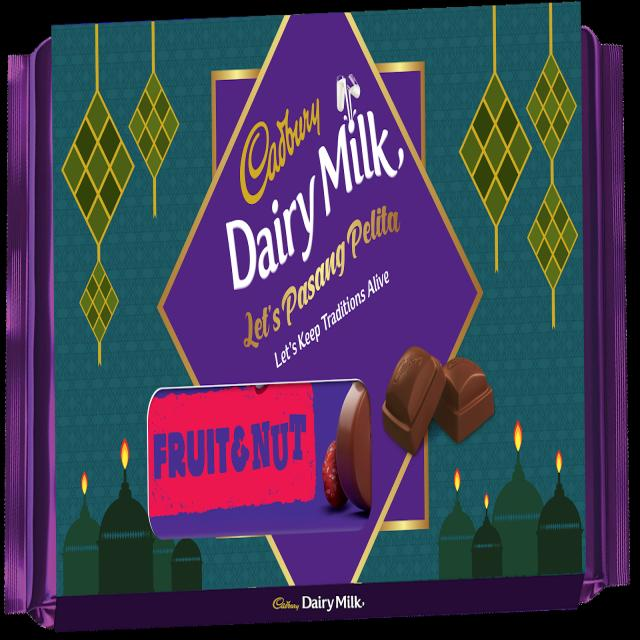cadbury: (10, 12, 633, 618)
